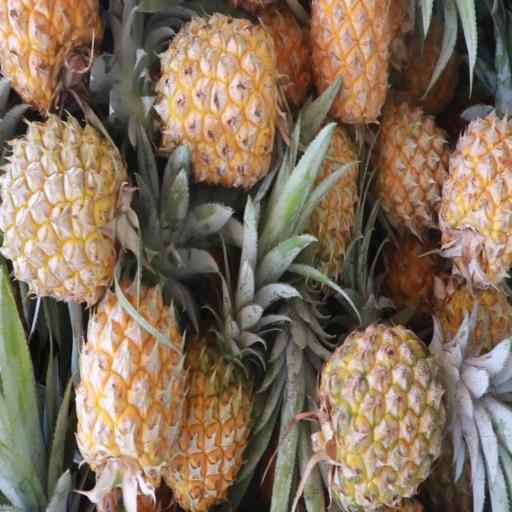------------------------------: (302, 319, 501, 509)
Pineapple - v8 v1: (52, 264, 162, 506), (146, 243, 244, 510), (126, 14, 268, 183), (249, 100, 345, 320), (4, 123, 119, 302), (423, 109, 512, 293), (358, 98, 433, 239), (310, 0, 396, 120)
